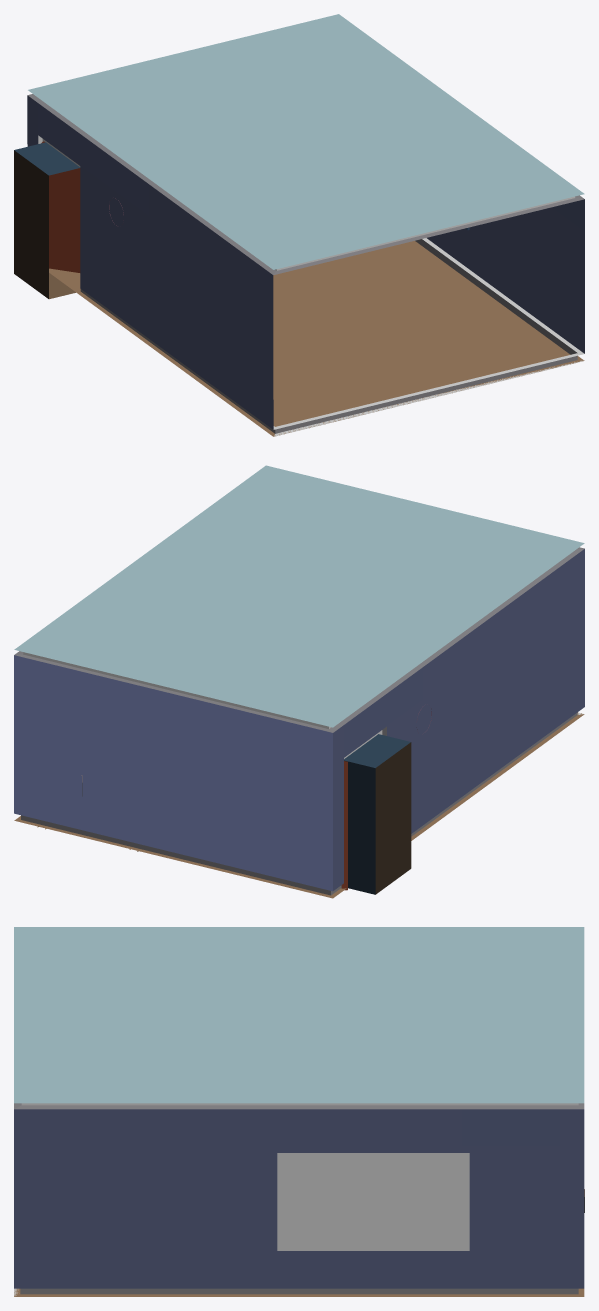
Rendered from room_02.fbx.
3 renders of one model, top to bottom at view 1: azimuth 30°, elevation 25°; view 2: azimuth 150°, elevation 25°; view 3: azimuth 270°, elevation 25°, orthographic. The views are drawn at different scales.
Visible parts, largest first — view 1: room, door; view 2: room; view 3: room, windows.
Part boxes in pixels (x1=…): room: x1=14, y1=14, x2=584, y2=436; door: x1=41, y1=141, x2=80, y2=272; room: x1=14, y1=465, x2=584, y2=898; room: x1=14, y1=927, x2=584, y2=1296; windows: x1=277, y1=1153, x2=469, y2=1250.
Size of the model in its own units: 705 by 335 by 876.
